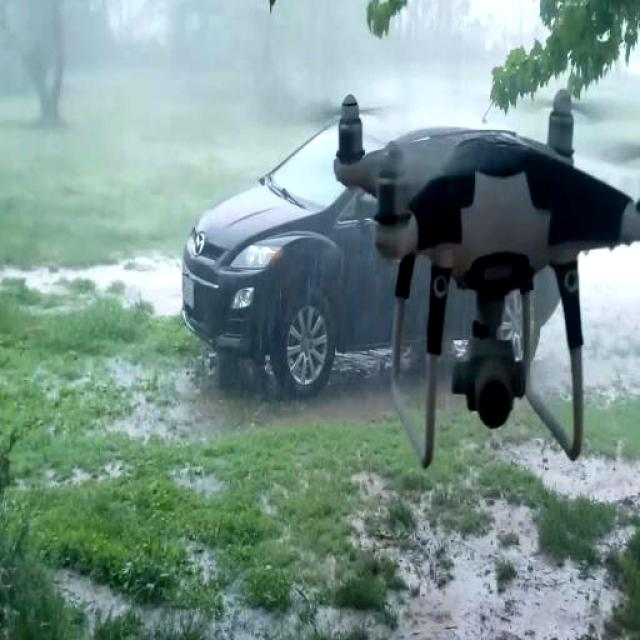bird: (329, 78, 640, 484)
